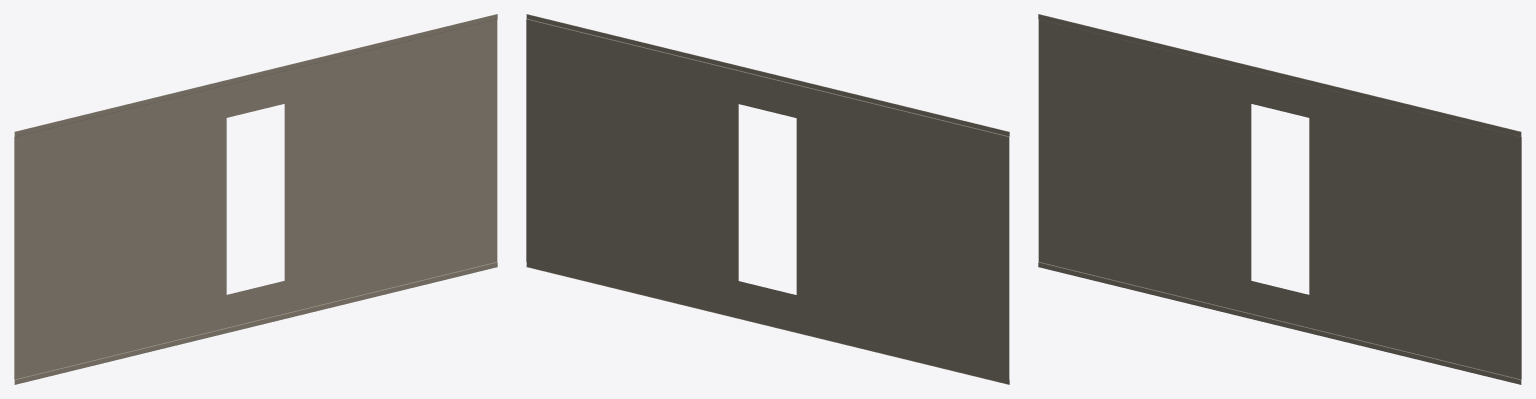
File: Wall_10x5_SingleWindow.fbx
3 views of the same model, side by side, from view 1: azimuth 30°, elevation 25°; view 2: azimuth 150°, elevation 25°; view 3: azimuth 330°, elevation 25° (orthographic).
Parts seen in each view (by area): view 1: Wall_10x5_SingleWindow; view 2: Wall_10x5_SingleWindow; view 3: Wall_10x5_SingleWindow.
Part boxes in pixels (<box>): Wall_10x5_SingleWindow: <box>14,14,497,384</box>; Wall_10x5_SingleWindow: <box>526,14,1009,384</box>; Wall_10x5_SingleWindow: <box>1038,14,1521,384</box>.
Bounding box in the file's own units: 10 × 5 × 0.015.
